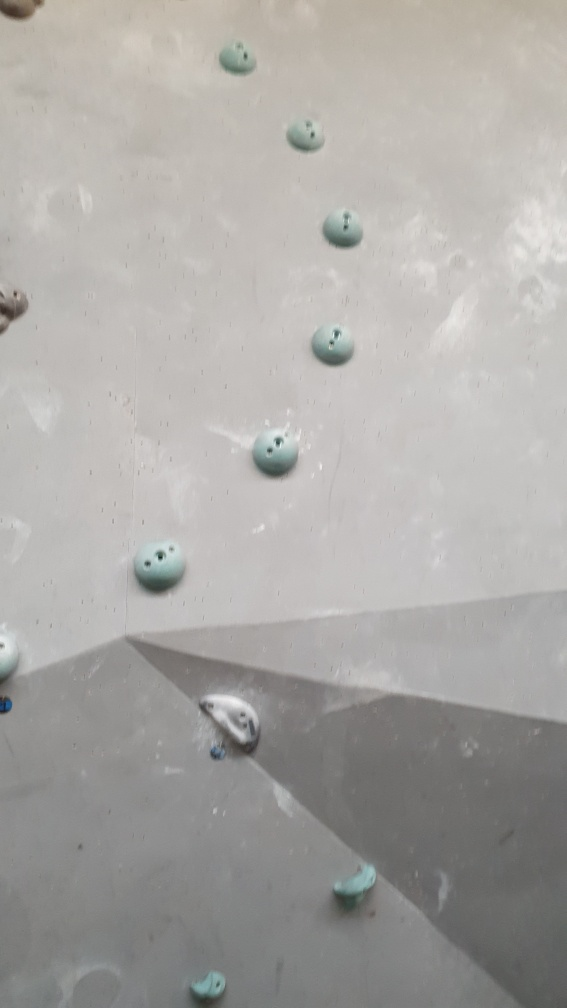Hand Start: (208, 742, 228, 763), (1, 693, 12, 718)
Jug: (332, 859, 378, 911)
Sloper: (134, 535, 187, 595), (253, 428, 304, 477), (322, 203, 368, 251), (312, 319, 357, 367), (287, 115, 330, 156), (215, 38, 260, 76)
